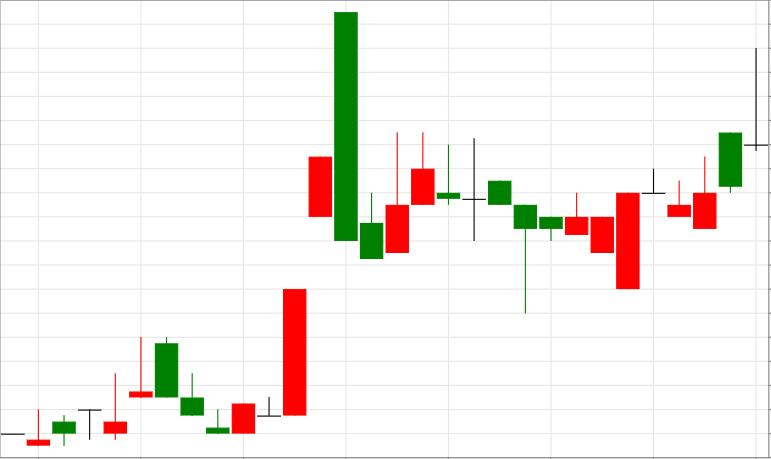bearish_engulfing_fall: (206, 12, 358, 434)
hammer_rise: (411, 132, 537, 314)
